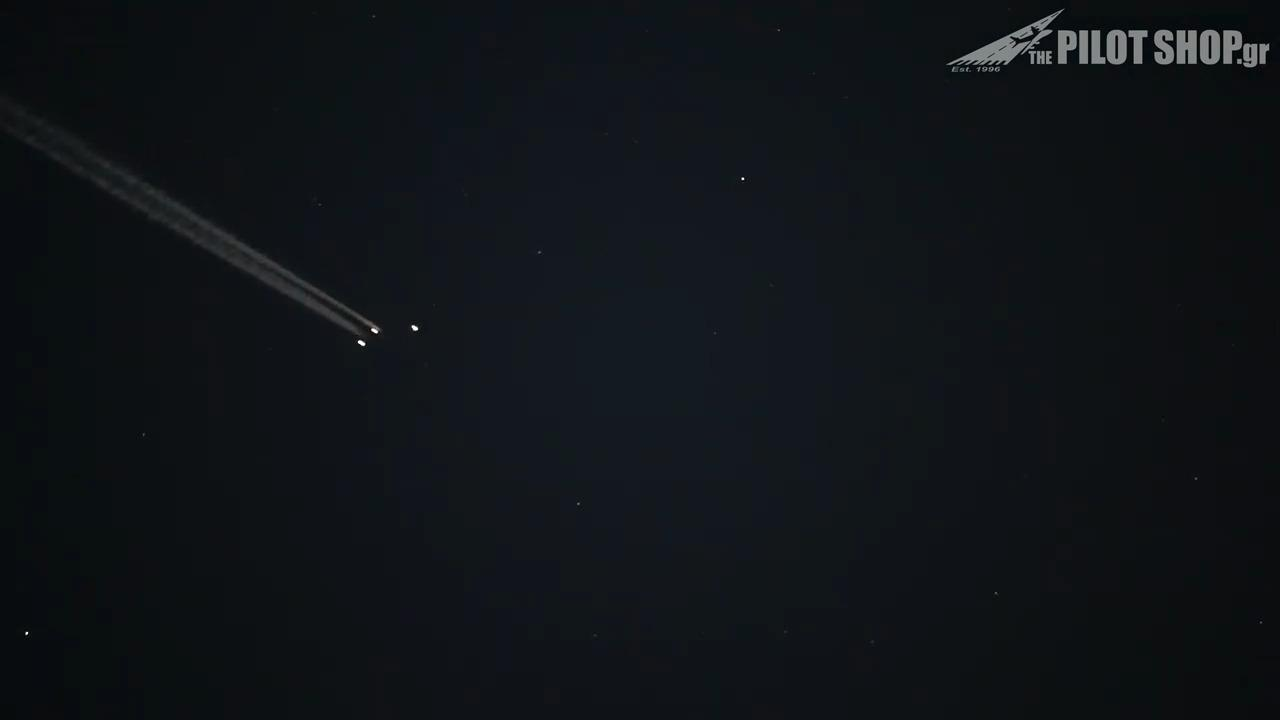Plane: (204, 202, 442, 372)
